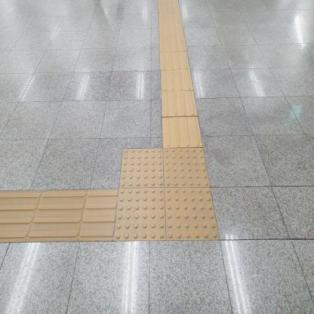Podoctatil: (91, 111, 241, 268), (156, 0, 203, 148), (0, 187, 112, 246)
